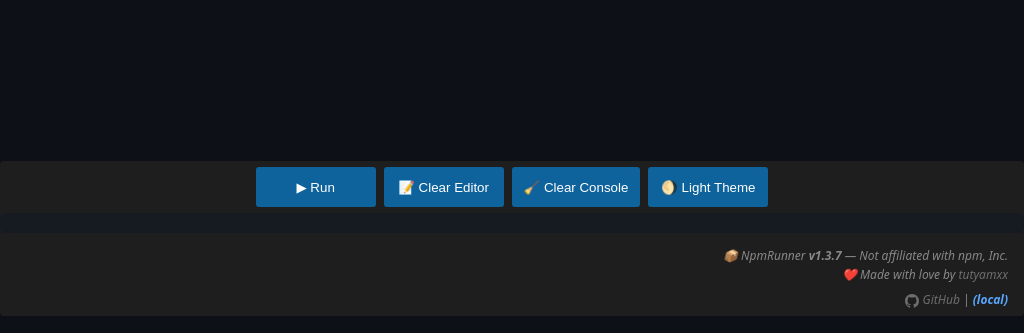
Test case: 🏖️ Runner Component › Shows a notification and stops loading if user code has a syntax error
Click the button "▶ Run" at (316,187), box [256,167,376,207]
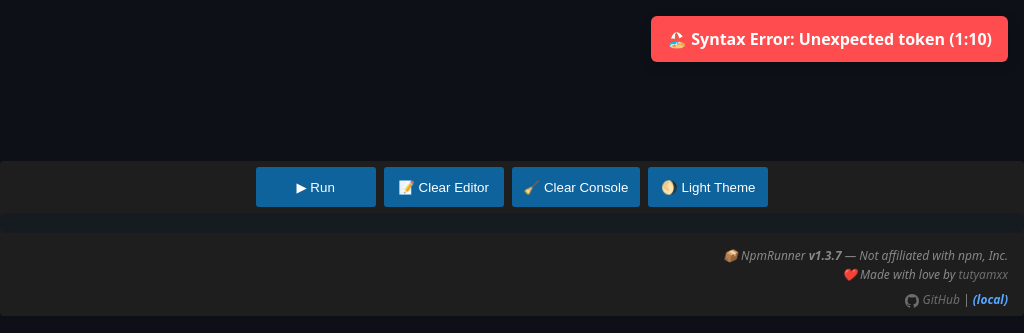
Expected: the text "Syntax Error:" is shown, [667,28,992,50]
